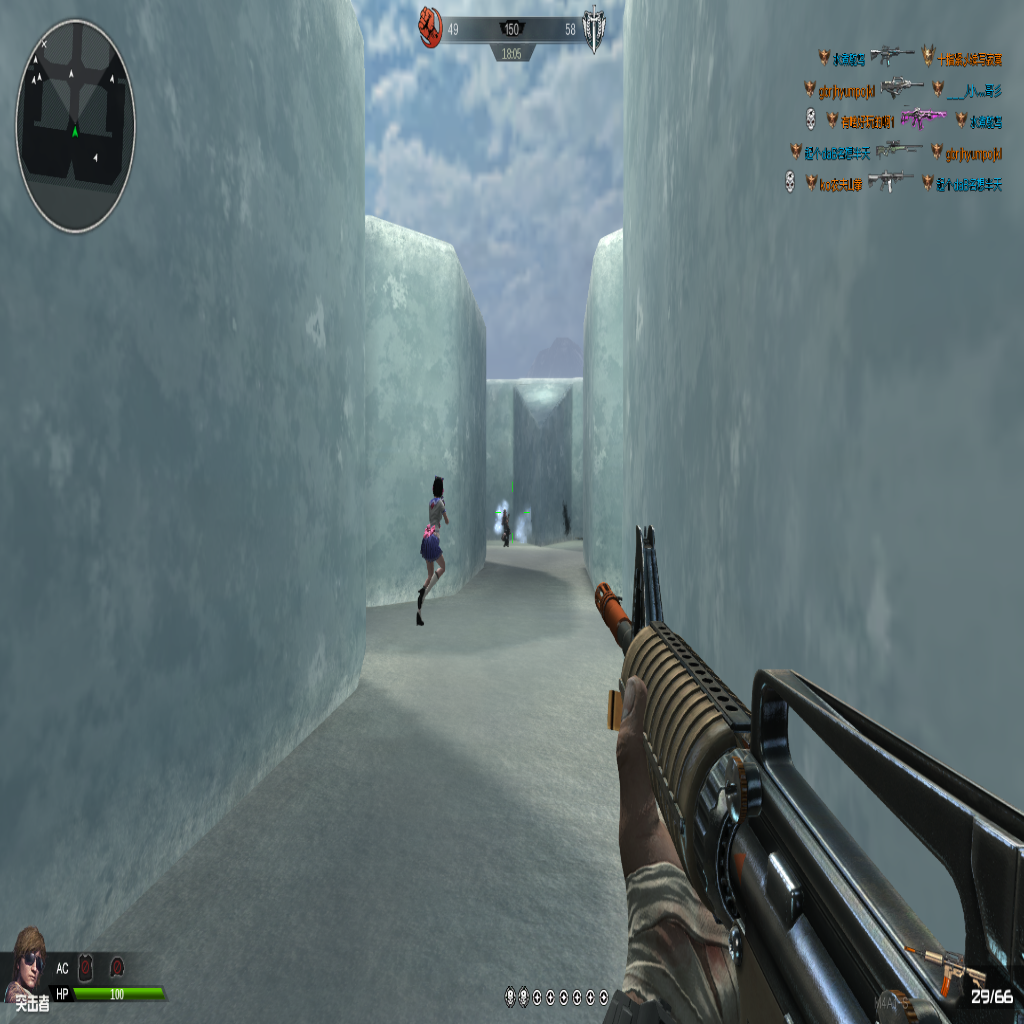ct: (501, 510, 510, 548)
tt: (415, 477, 453, 615)
